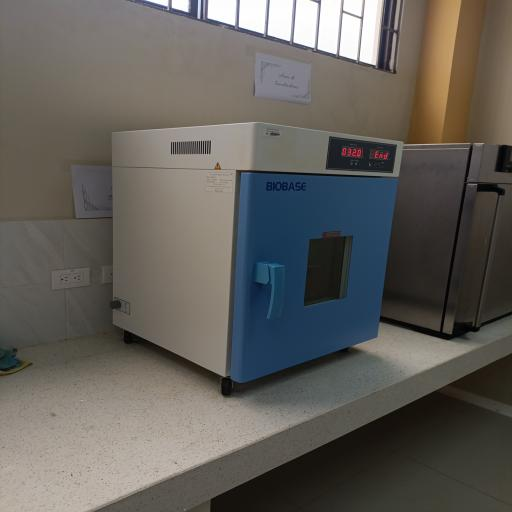Horno_Secado_Biobase: (95, 111, 411, 400)
